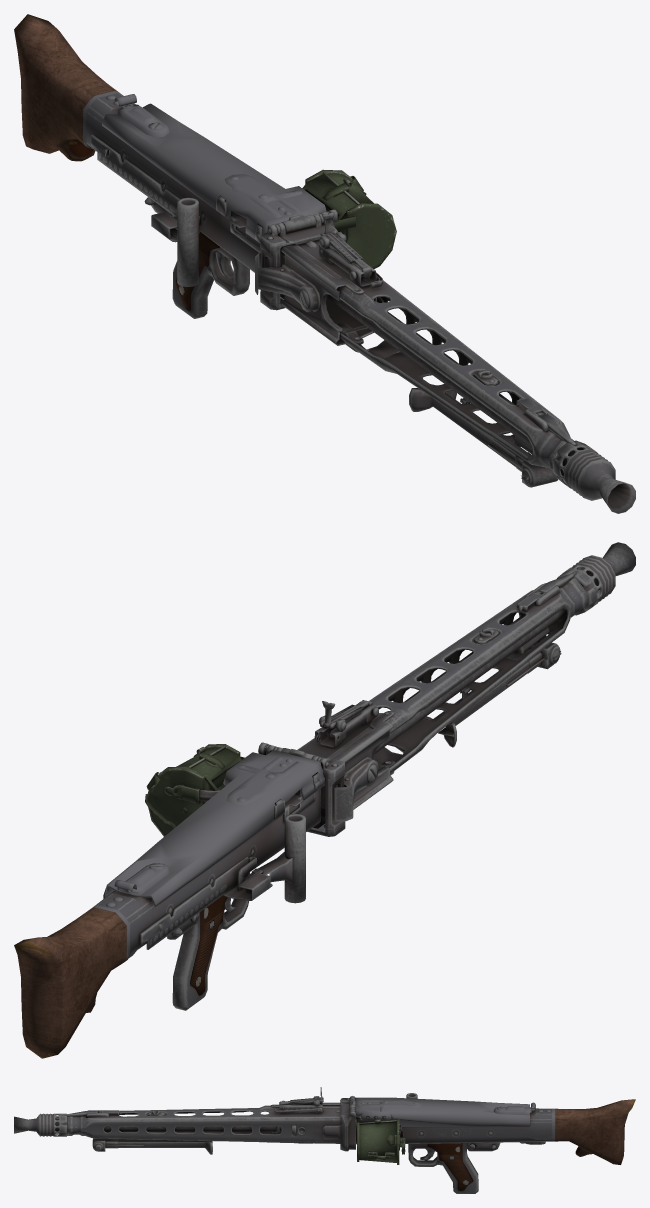
The picture shows the model from 3 angles, top to bottom: view 1: azimuth 30°, elevation 25°; view 2: azimuth 150°, elevation 25°; view 3: azimuth 270°, elevation 25°; orthographic projection. The views are drawn at different scales.
Parts seen in each view (by area): view 1: MG42; view 2: MG42; view 3: MG42.
Boxes of the visible parts, bbox=[...] form: MG42: bbox=[14, 14, 635, 513]; MG42: bbox=[14, 542, 635, 1058]; MG42: bbox=[14, 1087, 635, 1193].
Bounding box in the file's own units: 0.2064 × 0.2241 × 1.21.
Materials: 1 (1 with a texture image).
